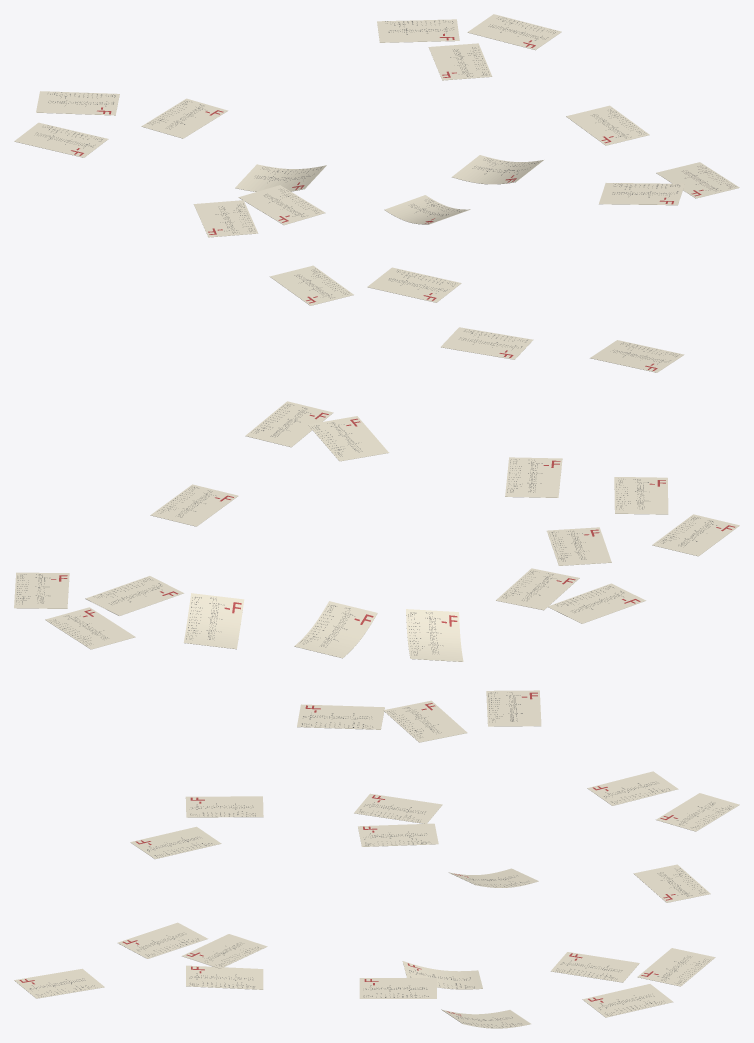
File: Tests.fbx
3 renders of one model, top to bottom at view 1: azimuth 30°, elevation 25°; view 2: azimuth 150°, elevation 25°; view 3: azimuth 270°, elevation 25°, orthographic. The views are drawn at different scales.
Visible parts, largest first — view 1: Plane.056, Plane.055, Plane.060, Plane.063, Plane.065, Plane.061, Plane.066, Plane.057, Plane.062, Plane.050, Plane.064, Plane.058 (+6 smaller); view 2: Plane.051, Plane.059, Plane.052, Plane.067, Plane.054, Plane.053, Plane.056, Plane.062, Plane.064, Plane.058, Plane.061, Plane.065 (+6 smaller); view 3: Plane.055, Plane.066, Plane.058, Plane.064, Plane.057, Plane.063, Plane.061, Plane.053, Plane.060, Plane.062, Plane.065, Plane.050 (+6 smaller).
Part boxes in pixels (bbox=[...]): Plane.056: bbox=[367, 267, 461, 302]; Plane.055: bbox=[269, 265, 353, 305]; Plane.060: bbox=[36, 91, 119, 115]; Plane.063: bbox=[467, 14, 561, 50]; Plane.065: bbox=[377, 19, 459, 42]; Plane.061: bbox=[14, 122, 108, 157]; Plane.066: bbox=[440, 327, 533, 359]; Plane.057: bbox=[238, 185, 325, 225]; Plane.062: bbox=[141, 98, 227, 138]; Plane.050: bbox=[566, 105, 649, 145]; Plane.064: bbox=[428, 43, 492, 80]; Plane.058: bbox=[193, 200, 258, 237]; Plane.051: bbox=[183, 593, 244, 649]; Plane.059: bbox=[406, 609, 463, 661]; Plane.052: bbox=[294, 601, 377, 658]; Plane.067: bbox=[505, 457, 562, 497]; Plane.054: bbox=[308, 416, 388, 461]; Plane.053: bbox=[245, 401, 333, 447]; Plane.056: bbox=[614, 477, 668, 514]; Plane.062: bbox=[297, 704, 384, 729]; Plane.064: bbox=[85, 576, 183, 615]; Plane.058: bbox=[548, 583, 645, 623]; Plane.061: bbox=[486, 690, 541, 726]; Plane.065: bbox=[45, 607, 135, 649]; Plane.055: bbox=[185, 796, 263, 817]; Plane.066: bbox=[117, 922, 207, 958]; Plane.058: bbox=[354, 793, 442, 823]; Plane.064: bbox=[550, 952, 639, 982]; Plane.057: bbox=[358, 823, 438, 846]; Plane.063: bbox=[582, 984, 673, 1017]; Plane.061: bbox=[587, 771, 678, 805]; Plane.053: bbox=[186, 965, 263, 989]; Plane.060: bbox=[656, 793, 739, 831]; Plane.062: bbox=[633, 864, 710, 902]; Plane.065: bbox=[637, 948, 715, 986]; Plane.050: bbox=[359, 978, 436, 998].
Size of the model in its own units: 1634 by 249 by 2035.
